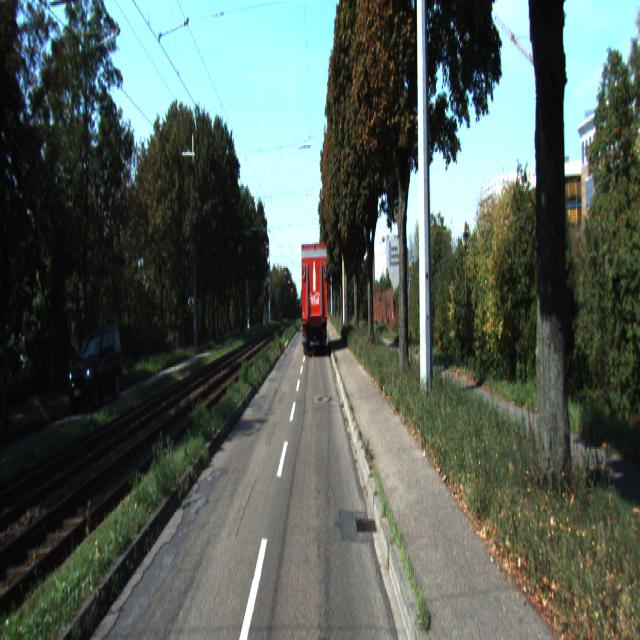Car: (68, 320, 126, 410)
Truck: (300, 242, 329, 360)
